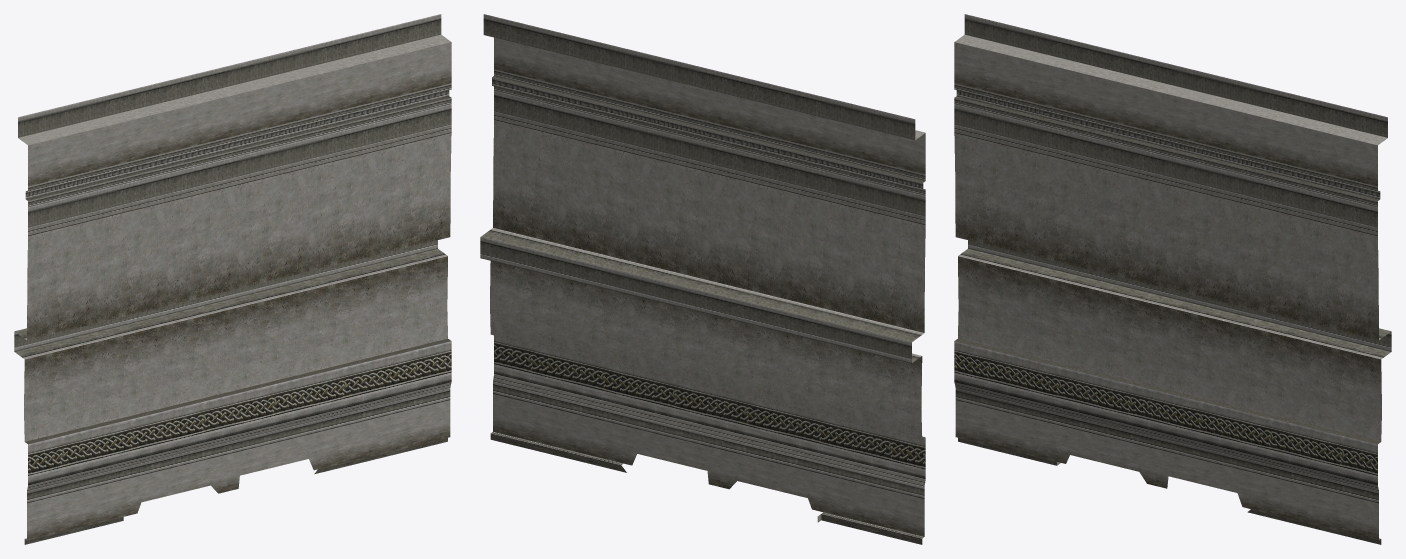
The model's file is DWARF_PALACE_WATER_ROOM_WALL01B02.fbx.
The picture shows the model from 3 angles, left to right: view 1: azimuth 30°, elevation 25°; view 2: azimuth 150°, elevation 25°; view 3: azimuth 330°, elevation 25°; orthographic projection.
Visible parts, largest first — view 1: DWARF_PALACE_WATER_ROOM_WALL01B02; view 2: DWARF_PALACE_WATER_ROOM_WALL01B02; view 3: DWARF_PALACE_WATER_ROOM_WALL01B02.
Boxes of the visible parts, bbox=[...] form: DWARF_PALACE_WATER_ROOM_WALL01B02: bbox=[14, 14, 451, 544]; DWARF_PALACE_WATER_ROOM_WALL01B02: bbox=[480, 14, 925, 544]; DWARF_PALACE_WATER_ROOM_WALL01B02: bbox=[954, 14, 1391, 544].
Bounding box in the file's own units: 214934 × 205000 × 12001.
Materials: 9 (9 with a texture image).
